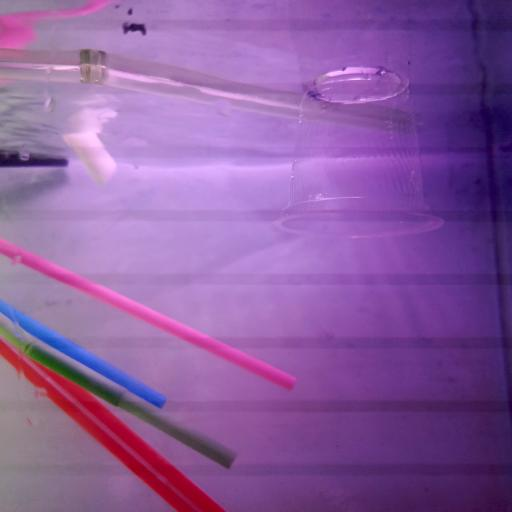plastic_cup: (275, 62, 445, 246)
plastic_straw: (0, 237, 298, 393), (0, 337, 224, 512), (0, 316, 233, 468), (2, 46, 398, 135), (0, 301, 167, 409), (0, 1, 112, 29), (0, 146, 69, 170)
